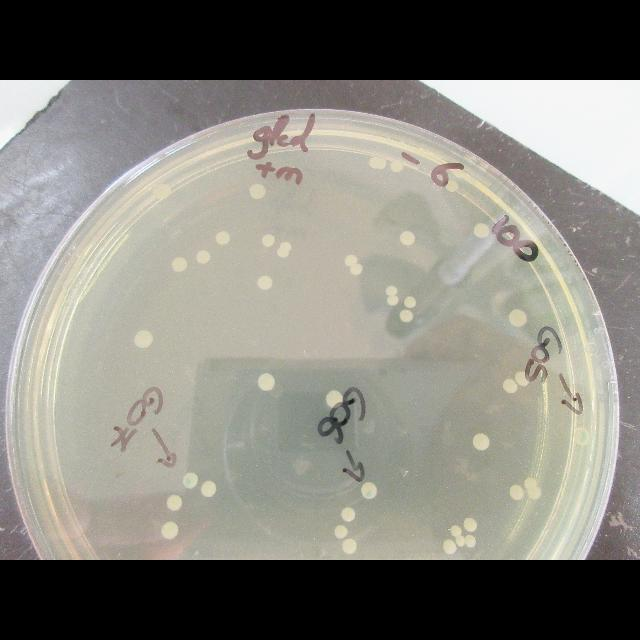colony: (509, 309, 528, 328), (161, 521, 179, 540), (135, 330, 152, 349), (258, 372, 275, 391), (325, 390, 342, 408), (361, 482, 378, 500), (472, 434, 490, 451), (152, 184, 171, 200), (182, 472, 199, 489), (201, 480, 216, 498), (166, 495, 182, 511), (249, 184, 266, 199), (502, 379, 518, 394), (171, 258, 188, 272), (341, 539, 356, 554), (474, 224, 490, 238), (442, 539, 456, 555), (510, 485, 524, 501), (278, 241, 291, 258), (369, 156, 386, 169), (215, 231, 230, 245), (258, 275, 272, 290), (400, 231, 415, 245), (515, 371, 529, 386), (196, 250, 210, 264), (341, 508, 355, 522), (334, 525, 348, 539), (464, 518, 478, 532), (528, 485, 541, 500), (399, 310, 414, 322), (261, 234, 275, 246), (390, 160, 404, 172), (445, 180, 459, 192), (404, 296, 416, 309), (524, 478, 538, 489), (345, 255, 358, 266), (385, 285, 398, 296), (386, 295, 399, 306), (450, 525, 461, 538), (465, 535, 476, 548), (350, 264, 362, 275), (455, 535, 465, 546)
